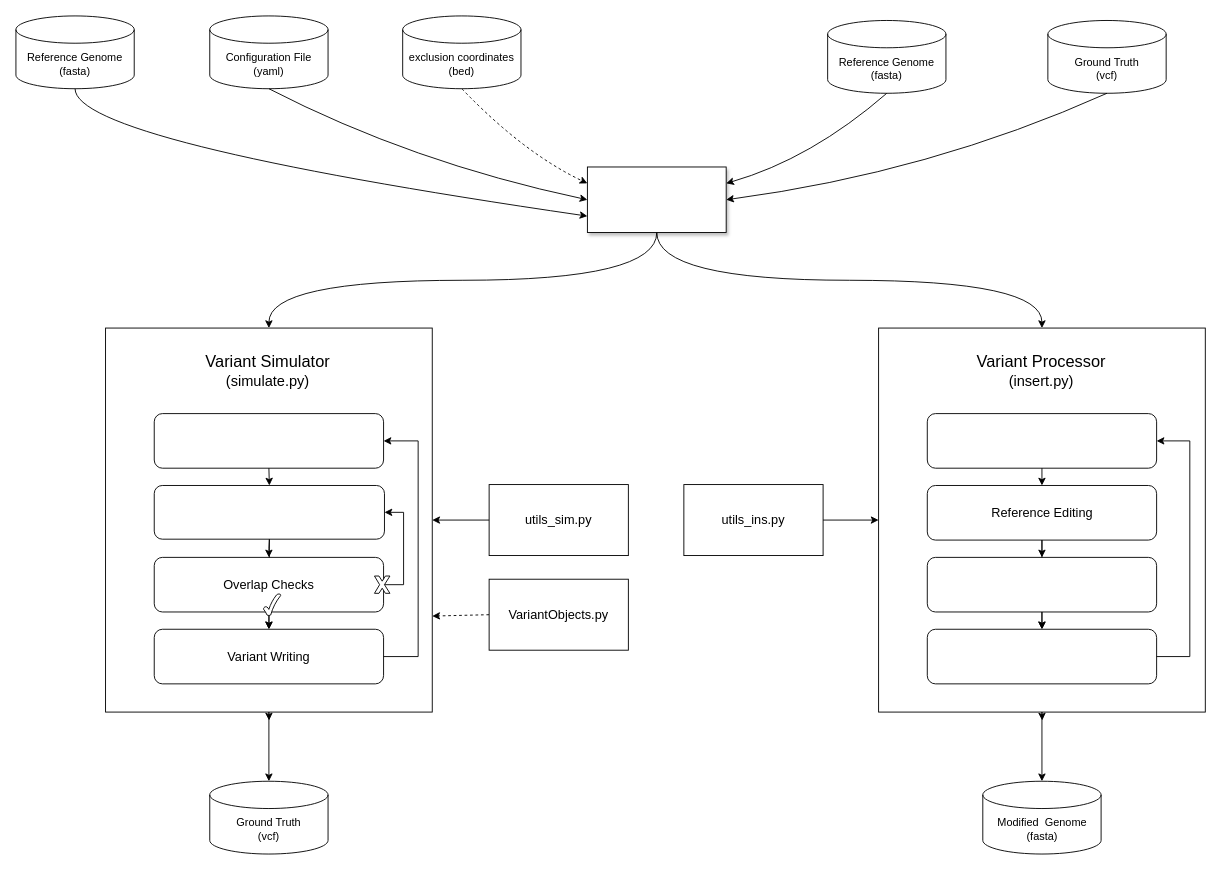
Some shapes in this 1221 by 870 pixel diagram are drawn without their labels. The shapes that lost their labels are listed below. From the top down, each one's centre as x and y in pixels, then its label:
the point at 657,200: CLI Controller (cli.py)
the point at 268,440: Statistrical Simulation
the point at 1041,440: Variant Categorization
the point at 268,512: Location Selection
the point at 1041,584: Coordinate Tracking
the point at 1041,656: Segmental Haplotype Writing
